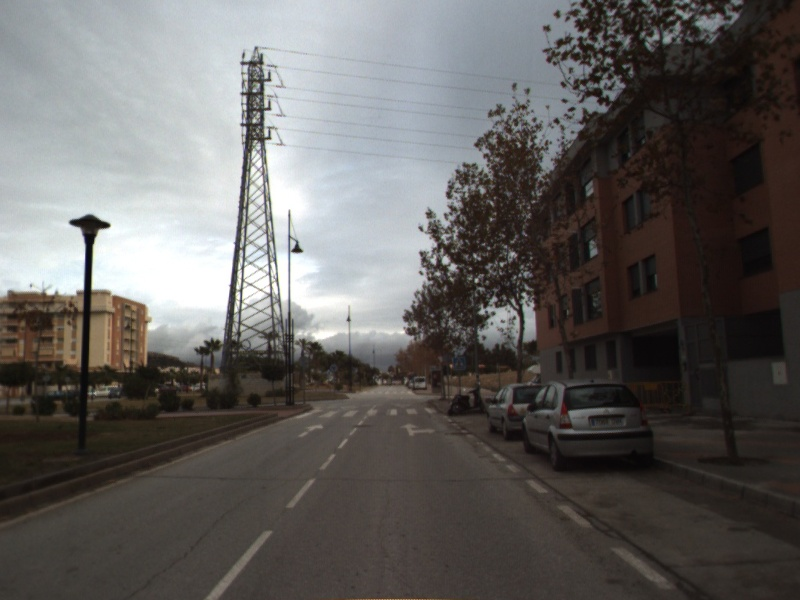STRAIGHT: (296, 421, 326, 439)
STRAIGHT_RIGHT: (398, 421, 437, 438)
